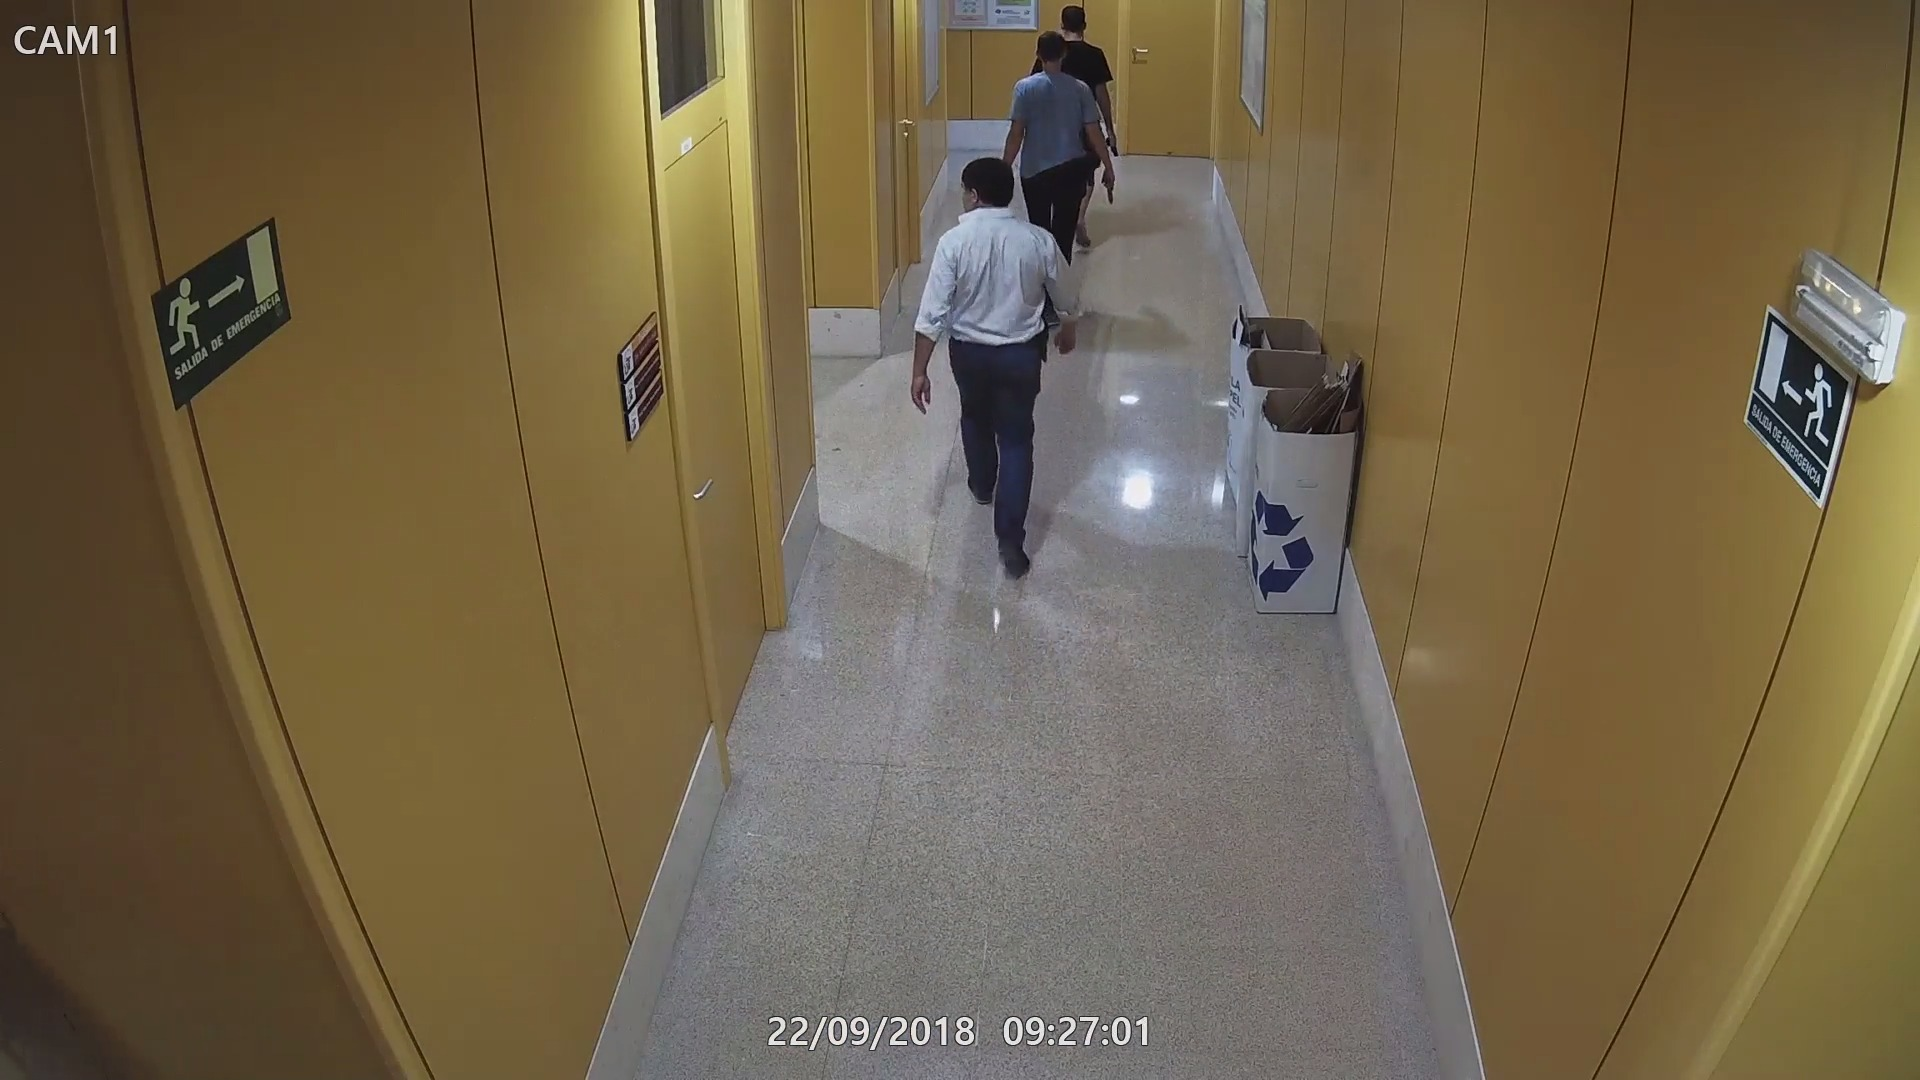Handgun: (1096, 167, 1124, 207), (1101, 129, 1127, 157)
